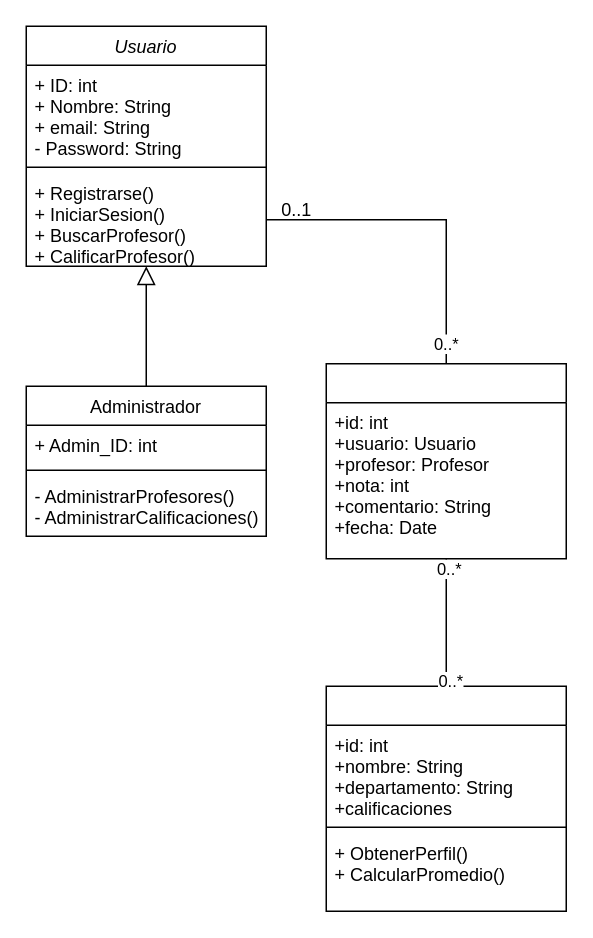
Image size: 593x938. Some labels were removed from this diagram. Each missing label, with the box of its shape:
Calificacion: (325, 362, 566, 559)
Profesor: (325, 685, 566, 911)
